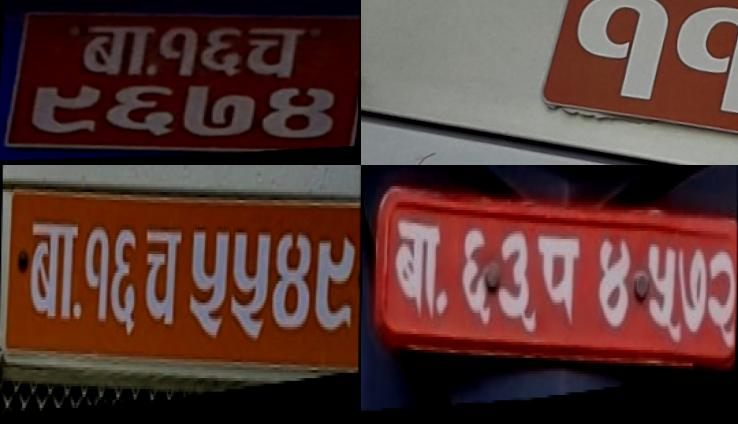1: (569, 0, 676, 119), (669, 0, 738, 131), (81, 224, 110, 335), (154, 25, 199, 83)
2: (704, 257, 738, 359)
3: (496, 232, 532, 330)
4: (258, 84, 337, 147), (270, 233, 313, 348), (596, 240, 630, 334)
5: (186, 219, 232, 349), (227, 227, 271, 356), (647, 250, 675, 343)
6: (103, 79, 178, 142), (109, 219, 139, 344), (197, 25, 246, 84), (461, 228, 490, 327)
7: (177, 80, 258, 145), (676, 253, 706, 343)
9: (311, 230, 358, 352), (26, 80, 103, 140)
ba: (24, 210, 78, 335), (393, 212, 442, 330), (76, 20, 158, 83)
cha: (141, 220, 182, 343), (244, 25, 308, 88)
pa: (534, 231, 578, 332)
